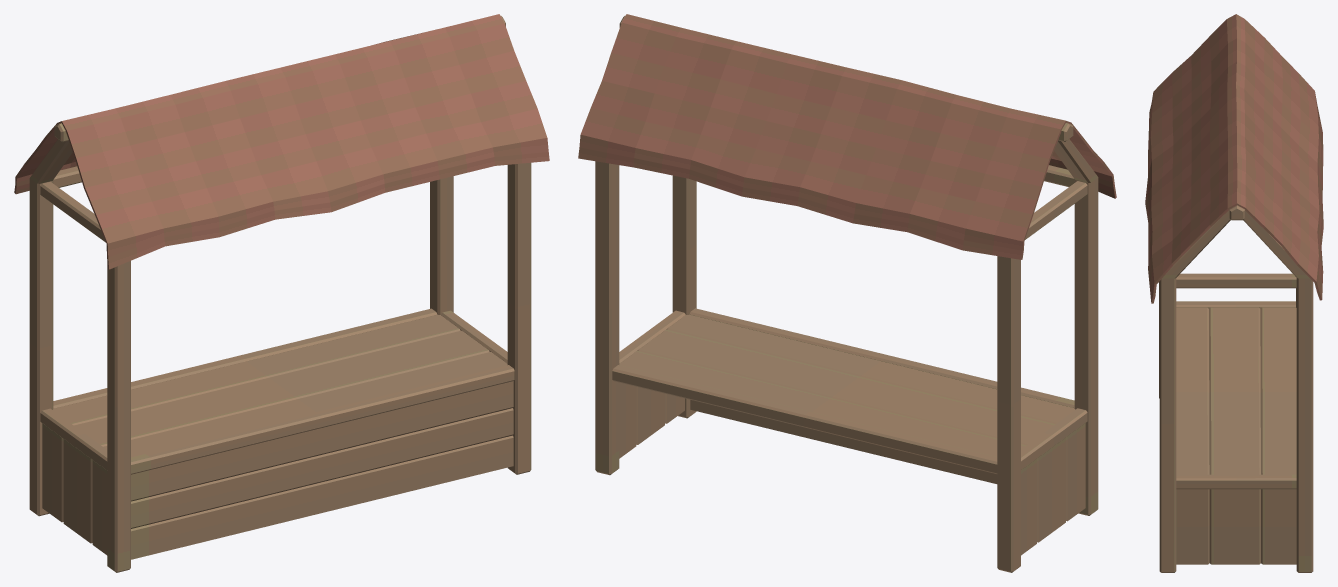
The model's file is stall2.glb.
3 views of the same model, side by side, from view 1: azimuth 30°, elevation 25°; view 2: azimuth 150°, elevation 25°; view 3: azimuth 270°, elevation 25° (orthographic). The views are drawn at different scales.
Bounding box in the file's own units: 3.79 × 3.44 × 1.49.
Materials: 1 (1 with a texture image).
